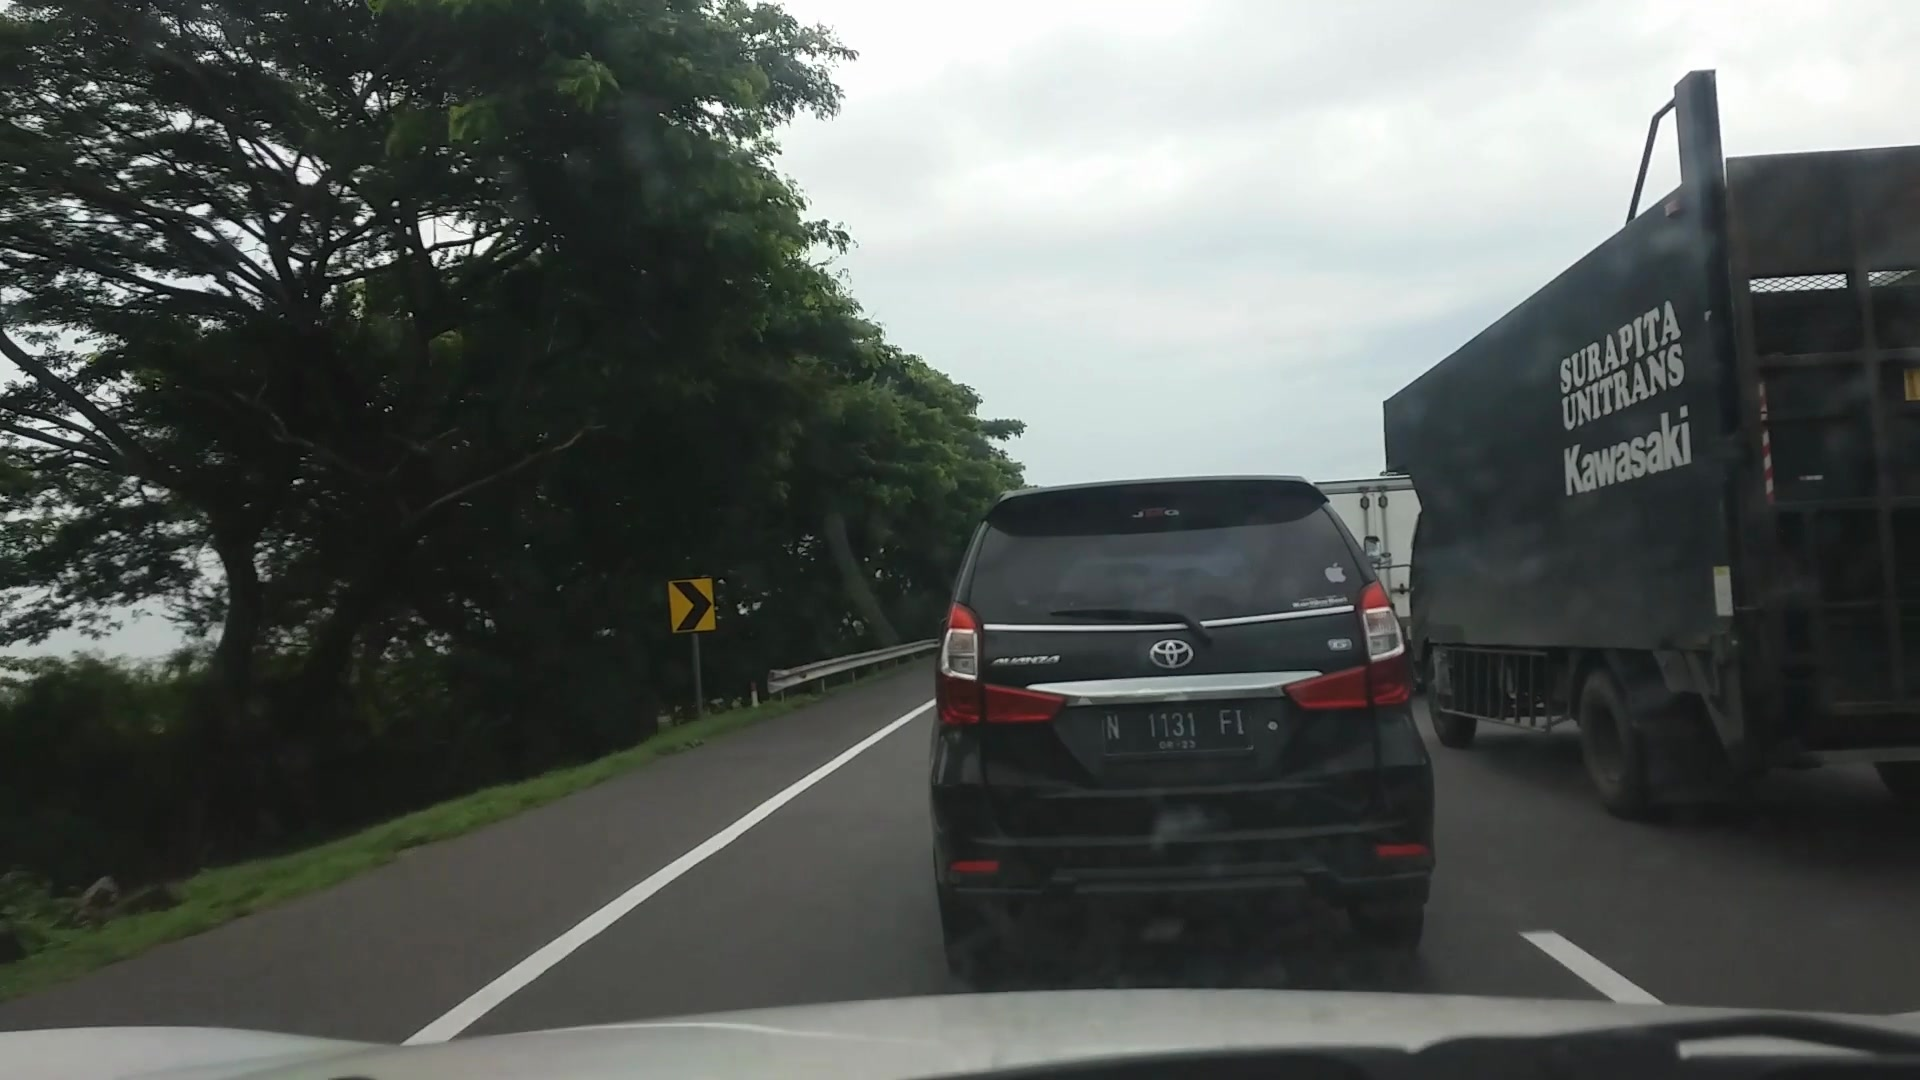plate_positive: (1102, 704, 1254, 758)
